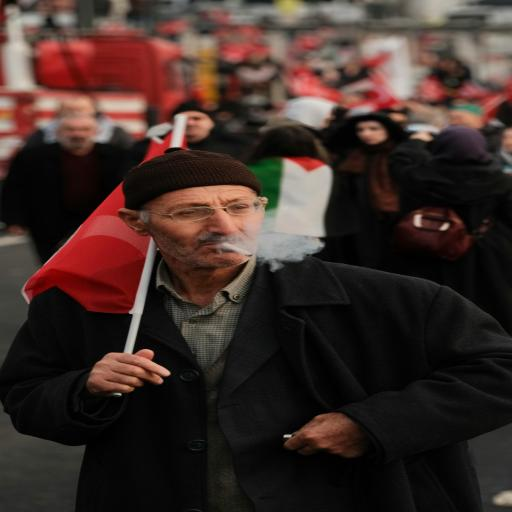dataset-deteksi-merokok: (167, 192, 274, 275)
